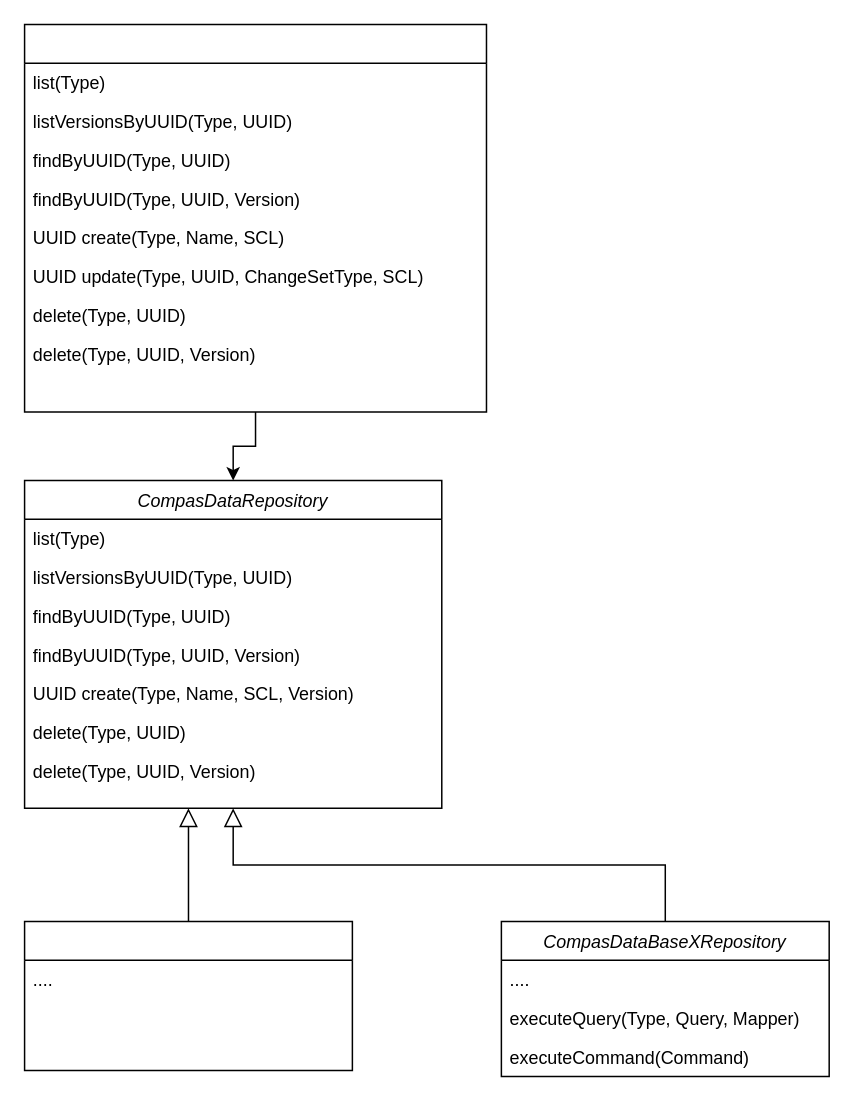
Image size: 854x1101. Some labels were removed from this diagram. The shapes that lost their labels are listed below. From the top down, each one's box as (x1, y1, x2, y2) in pixels, then its label:
(23, 23, 486, 412): CompasDataService
(23, 920, 352, 1071): CompasDataPostgreSQLRepository
